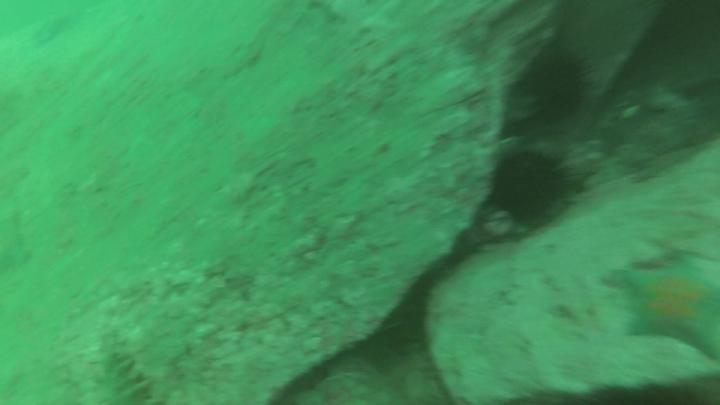echinus: (487, 148, 576, 230), (517, 50, 594, 126)
holothurian: (106, 339, 190, 405)
starfish: (613, 255, 720, 363)
